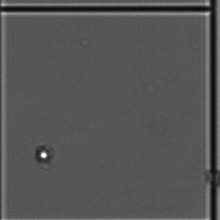Living Cell: (33, 140, 59, 166)
